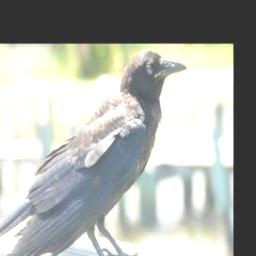Crow: (0, 49, 189, 256)
